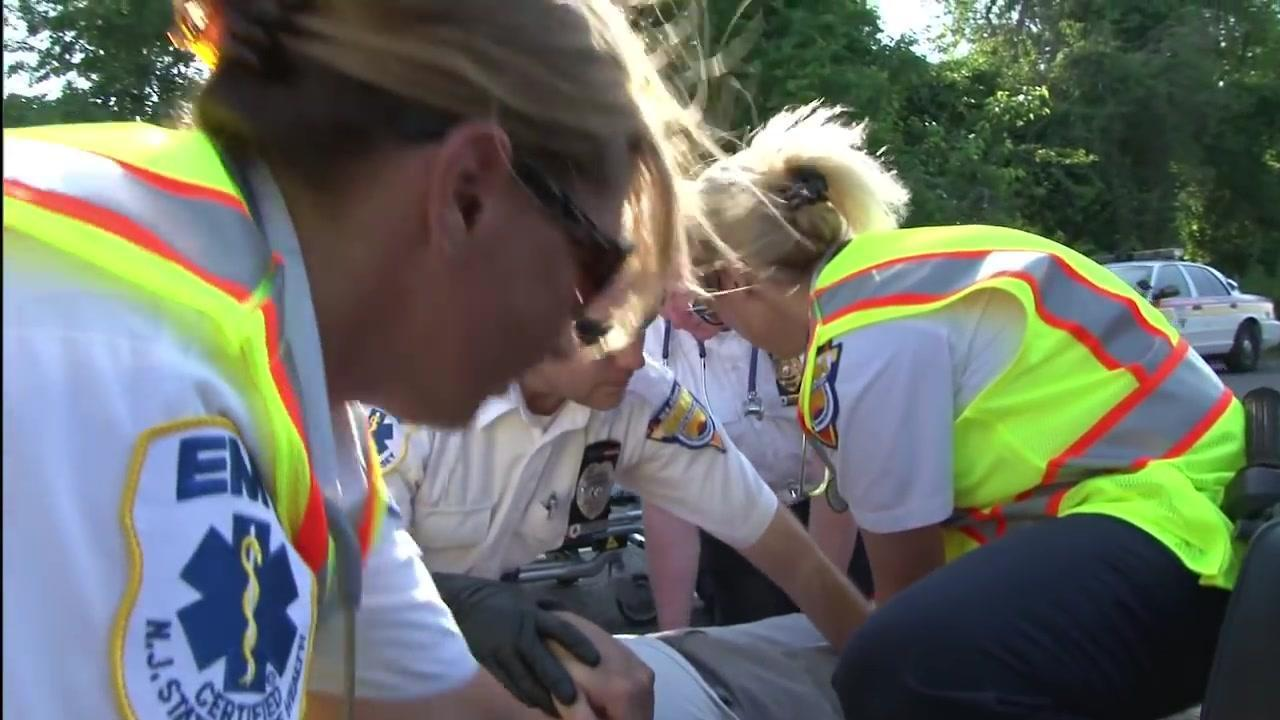Glass: (2, 105, 397, 719), (795, 207, 1268, 609)
